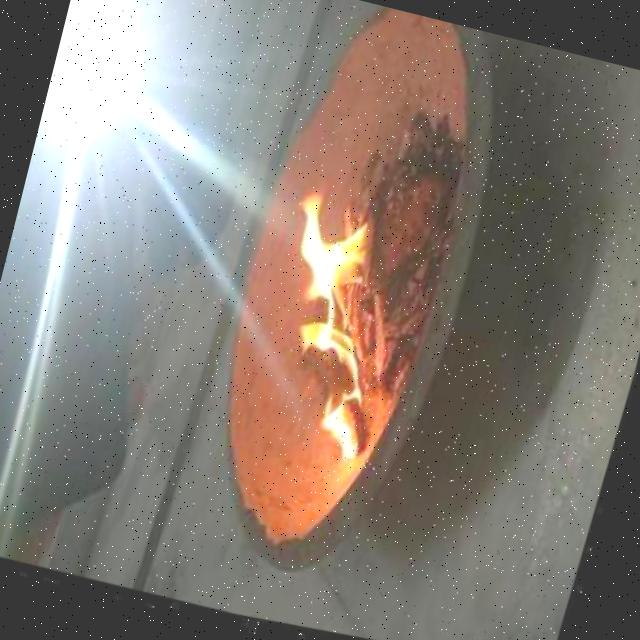fire: (217, 164, 435, 484)
